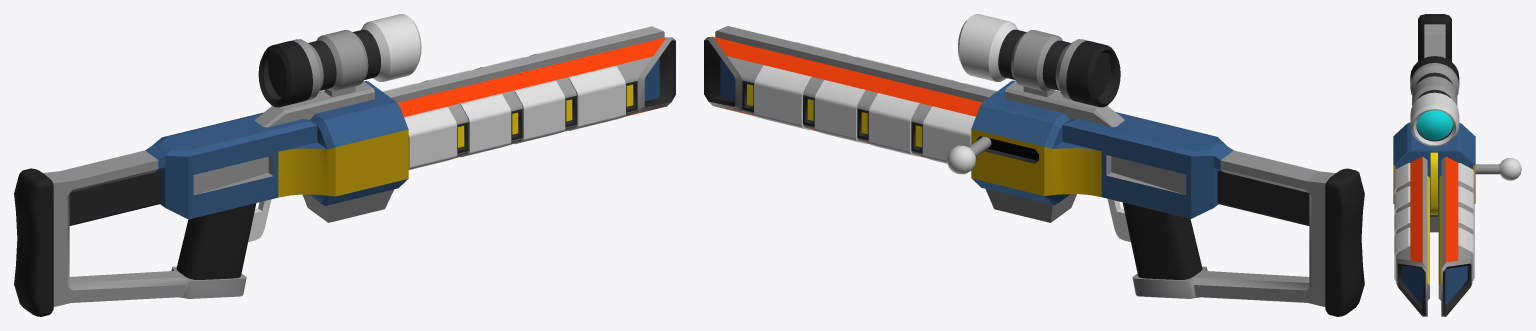
File: RailGun.FBX
The picture shows the model from 3 angles, left to right: view 1: azimuth 30°, elevation 25°; view 2: azimuth 150°, elevation 25°; view 3: azimuth 270°, elevation 25°; orthographic projection. The views are drawn at different scales.
Parts seen in each view (by area): view 1: RailGun, Scope, Screen; view 2: RailGun, Scope, BoltLever, Screen; view 3: RailGun, Scope, ScopeEnd, BoltLever.
Boxes of the visible parts, x1=… form: RailGun: x1=14, y1=26, x2=675, y2=316; Scope: x1=258, y1=14, x2=421, y2=107; Screen: x1=268, y1=52, x2=286, y2=97; RailGun: x1=704, y1=26, x2=1364, y2=316; Scope: x1=958, y1=14, x2=1120, y2=107; BoltLever: x1=947, y1=136, x2=991, y2=174; Screen: x1=1092, y1=52, x2=1111, y2=97; RailGun: x1=1393, y1=14, x2=1475, y2=316; Scope: x1=1410, y1=56, x2=1459, y2=146; ScopeEnd: x1=1416, y1=110, x2=1452, y2=140; BoltLever: x1=1475, y1=158, x2=1521, y2=180.
Size of the model in its own units: 456 by 156 by 99.54.
